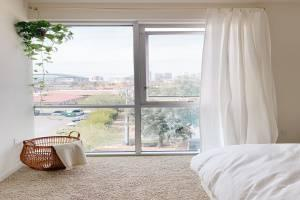window: (26, 19, 208, 153)
